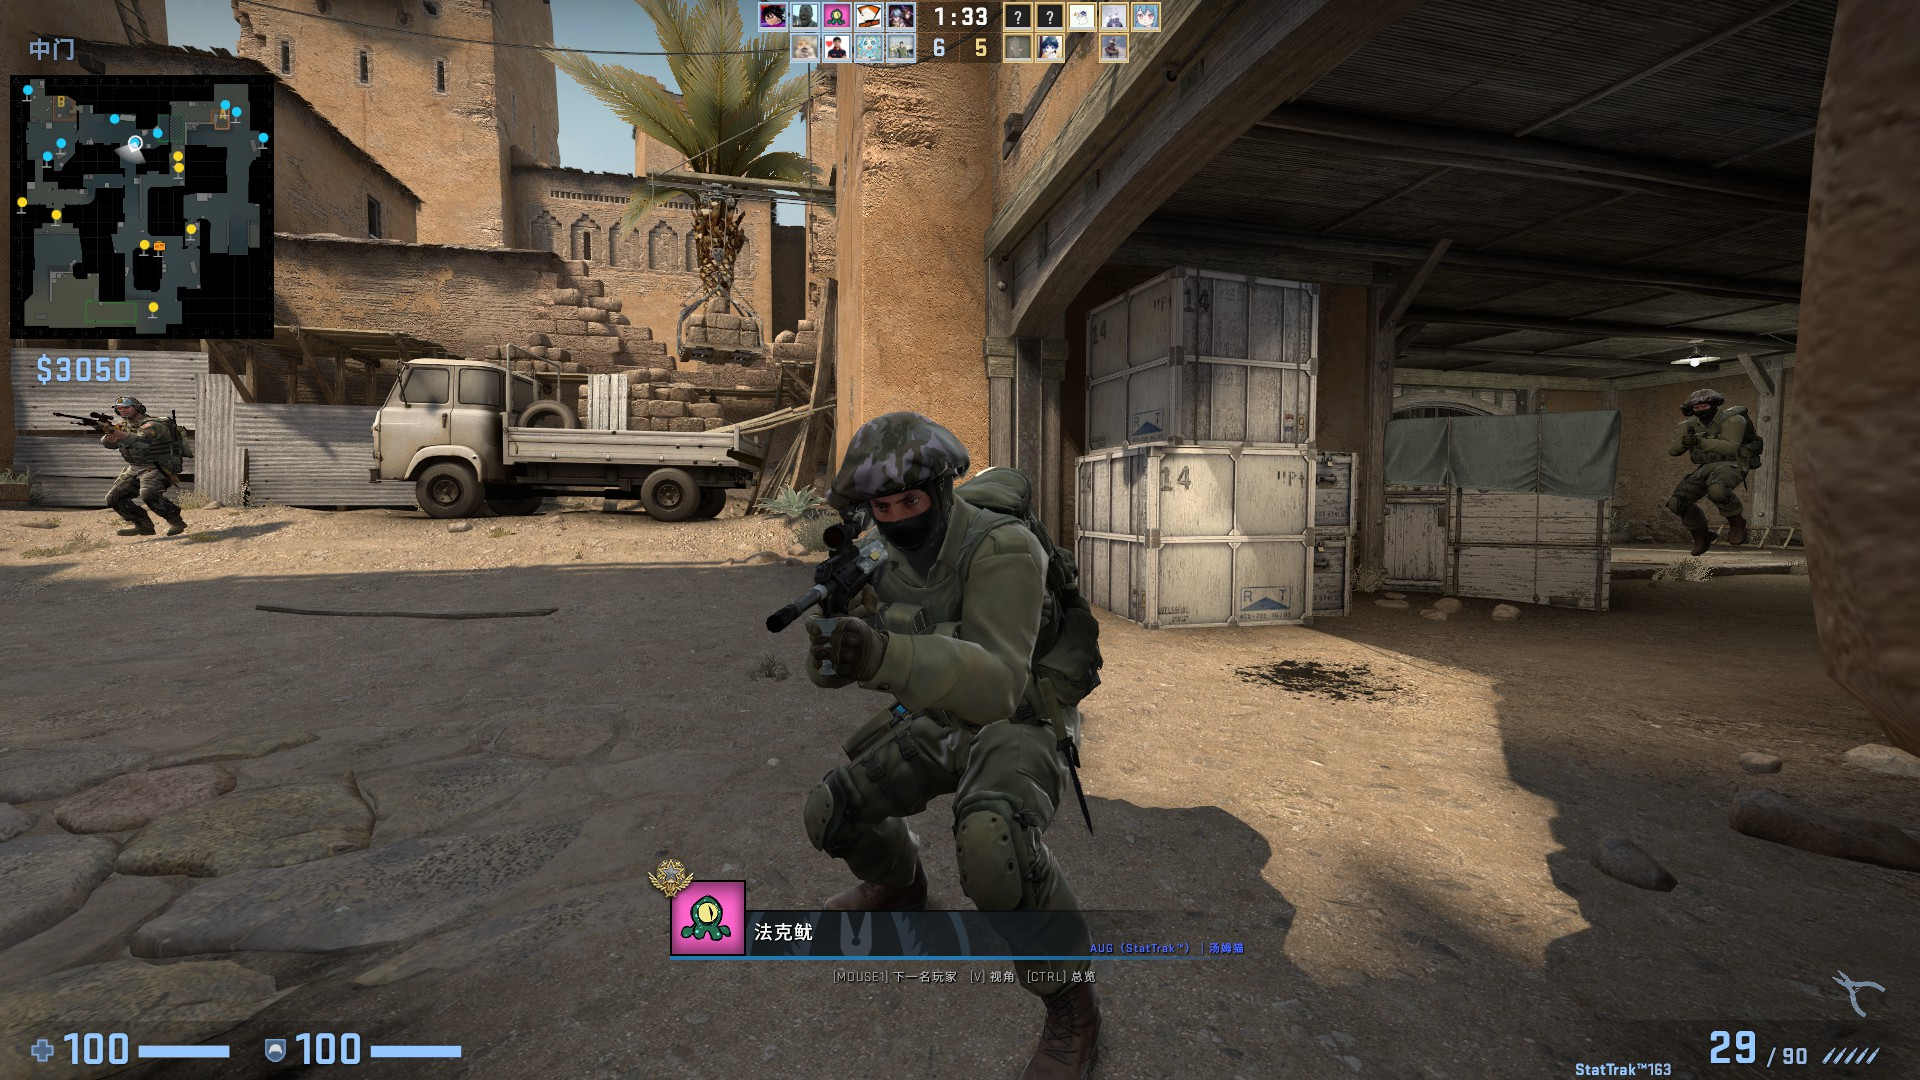head: (831, 408, 961, 546), (1680, 389, 1727, 421), (110, 395, 144, 419)
